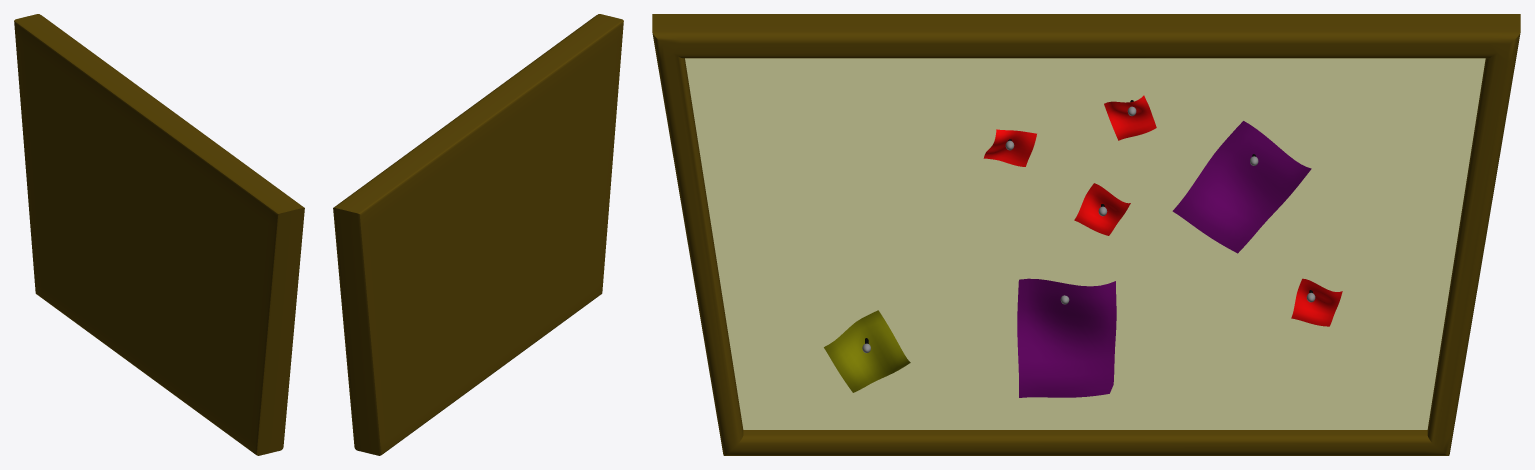
File: tableauInverse.fbx
3 views of the same model, side by side, from view 1: azimuth 30°, elevation 25°; view 2: azimuth 150°, elevation 25°; view 3: azimuth 270°, elevation 25° (orthographic). The views are drawn at different scales.
Parts seen in each view (by area): view 1: tableauInverse1; view 2: tableauInverse1; view 3: tableauInverse1.
Boxes of the visible parts, x1,y1,x2,y2 form: tableauInverse1: (14, 14, 304, 455); tableauInverse1: (333, 14, 623, 455); tableauInverse1: (652, 14, 1520, 455).
Size of the model in its own units: 0.281 by 1.91 by 3.56.
